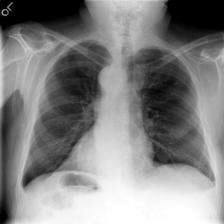normal: (17, 30, 219, 198)
